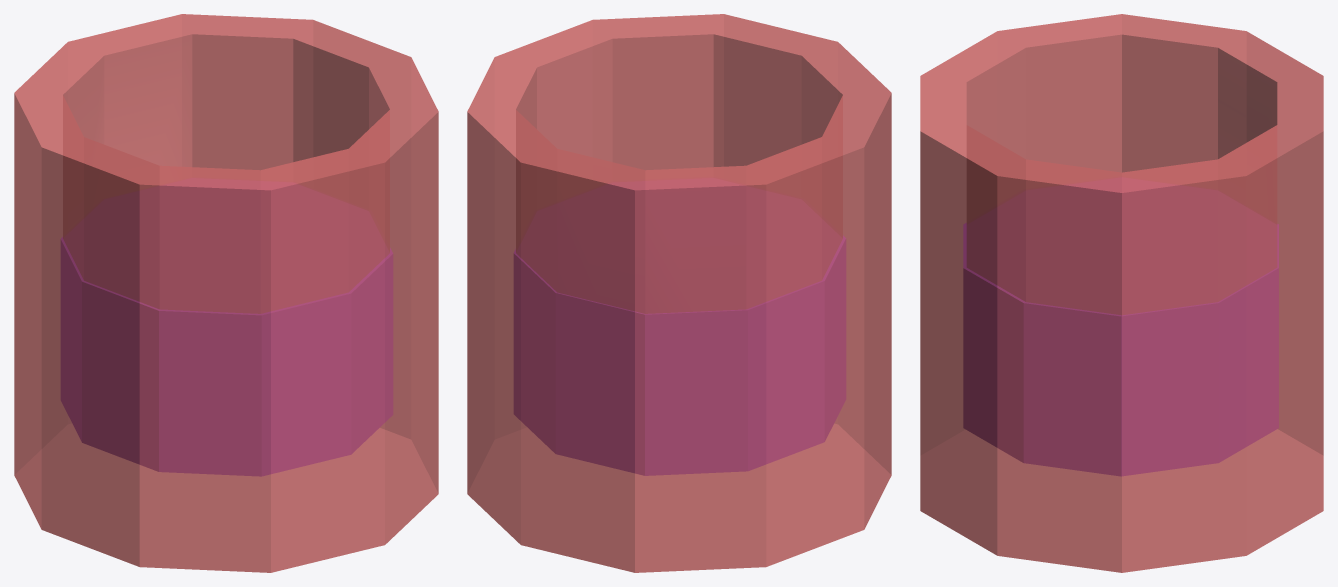
The model's file is Copo vermelho3.fbx.
3 views of the same model, side by side, from view 1: azimuth 30°, elevation 25°; view 2: azimuth 150°, elevation 25°; view 3: azimuth 270°, elevation 25° (orthographic).
Visible parts, largest first — view 1: pCylinder3; view 2: pCylinder3; view 3: pCylinder3.
Boxes of the visible parts, x1,y1,x2,y2 form: pCylinder3: (14,14,438,572); pCylinder3: (467,14,891,572); pCylinder3: (920,14,1323,572).
Size of the model in its own units: 2 by 1.98 by 1.9.
